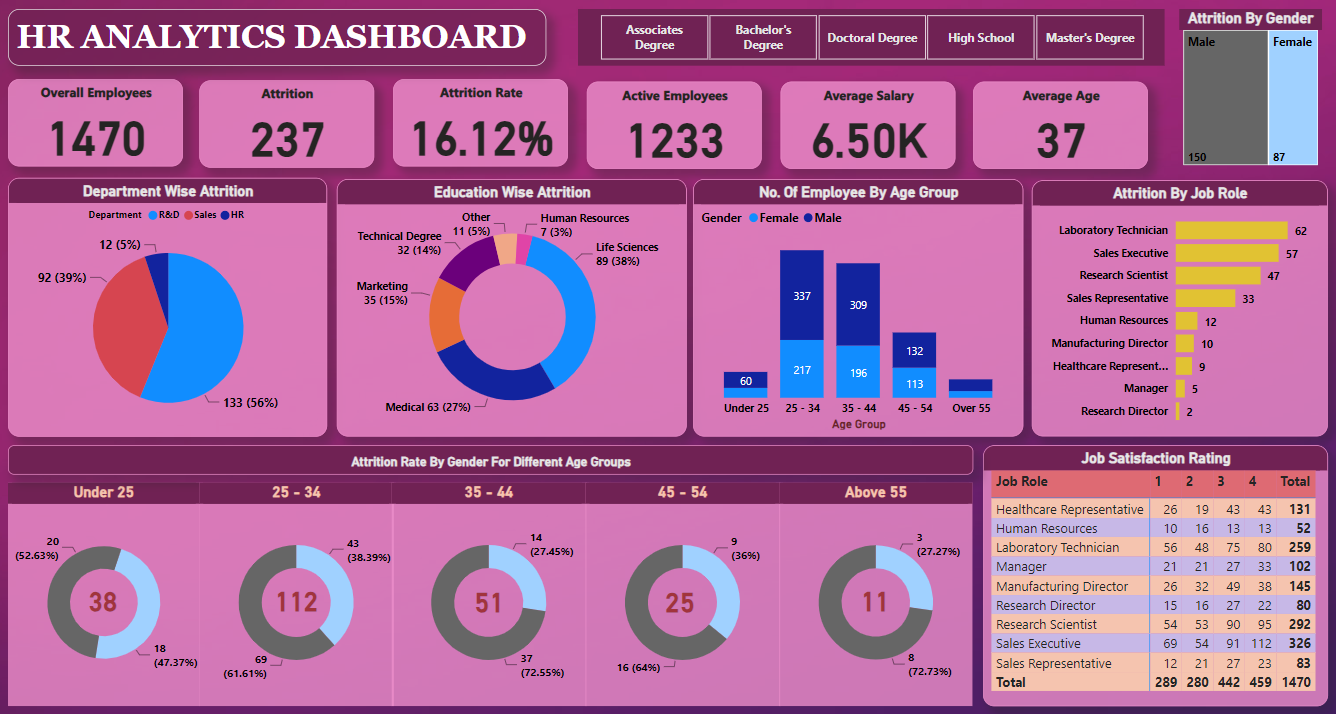

What the dashboard file says about the page in this screenshot:
{"tool":"powerbi","page":{"name":"Page 1","canvas":[1530,820],"ordinal":0},"visuals":[{"type":"card","title":"Overall Employees","fields":{"Values":["Sum(HR data.Employee Count)"]},"box":[11.3,91.5,200,100],"z":0},{"type":"card","title":"Attrition","fields":{"Values":["Sum(HR data.Attrition Count)"]},"box":[229.6,93,200,100],"z":1000},{"type":"card","title":"Attrition Rate ","fields":{"Values":["HR data.Attrition Rate %"]},"box":[452.1,91.5,200,100],"z":2000},{"type":"card","title":"Active Employees","fields":{"Values":["HR data.Active Employees"]},"box":[673.2,94.4,200,100],"z":3000},{"type":"card","title":"Average Salary","fields":{"Values":["Avg(HR data.Monthly Income)"]},"box":[894.4,94.4,200,100],"z":4000},{"type":"card","title":"Average Age","fields":{"Values":["Avg(HR data.Age)"]},"box":[1114.1,94.4,200,100],"z":5000},{"type":"pieChart","title":"Department Wise Attrition","fields":{"Category":["HR data.Department"],"Y":["Sum(HR data.Attrition Count)"]},"box":[11.3,204.2,364.8,295.8],"z":6000},{"type":"donutChart","title":"Education Wise Attrition","fields":{"Y":["Sum(HR data.Attrition Count)"],"Category":["HR data.Education Field"]},"box":[387.3,205.6,400,294.4],"z":7000},{"type":"columnChart","title":"No. Of Employee By Age Group","fields":{"Category":["HR data.CF_age band"],"Y":["Sum(HR data.Employee Count)"],"Series":["HR data.Gender"]},"box":[794.4,205.6,377.5,294.4],"z":7001},{"type":"textbox","box":[11.3,11.3,615.5,64.8],"z":7002},{"type":"barChart","title":"Attrition By Job Role","fields":{"Category":["HR data.Job Role"],"Y":["Sum(HR data.Attrition Count)"]},"box":[1181.7,207,338,293],"z":7003},{"type":"pivotTable","title":"Job Satisfaction Rating","fields":{"Rows":["HR data.Job Role"],"Columns":["HR data.Job Satisfaction"],"Values":["CountNonNull(HR data.Job Satisfaction)"]},"box":[1125.4,509.9,394.4,298.6],"z":7004},{"type":"donutChart","title":"Under 25","fields":{"Category":["HR data.Gender"],"Series":["HR data.CF_age band"],"Y":["Sum(HR data.Attrition Count)"]},"box":[11.3,553.5,219,254.9],"z":7005},{"type":"textbox","box":[11.3,509.9,1102.8,33.8],"z":7006},{"type":"donutChart","title":"25 - 34","fields":{"Category":["HR data.Gender"],"Series":["HR data.CF_age band"],"Y":["Sum(HR data.Attrition Count)"]},"box":[229.6,553.5,222,254.9],"z":7007},{"type":"donutChart","title":"35 - 44","fields":{"Category":["HR data.Gender"],"Series":["HR data.CF_age band"],"Y":["Sum(HR data.Attrition Count)"]},"box":[450.7,553.5,222,254.9],"z":7008},{"type":"donutChart","title":"45 - 54","fields":{"Category":["HR data.Gender"],"Series":["HR data.CF_age band"],"Y":["Sum(HR data.Attrition Count)"]},"box":[671.8,553.5,222,254.9],"z":7009},{"type":"donutChart","title":"Above 55","fields":{"Category":["HR data.Gender"],"Series":["HR data.CF_age band"],"Y":["Sum(HR data.Attrition Count)"]},"box":[893,553.5,221.1,254.9],"z":7010},{"type":"card","fields":{"Values":["Sum(HR data.Attrition Count)"]},"box":[90.1,657.7,60.6,60.6],"z":7011},{"type":"card","fields":{"Values":["Sum(HR data.Attrition Count)"]},"box":[305.6,652.1,70.4,70.4],"z":7012},{"type":"card","fields":{"Values":["Sum(HR data.Attrition Count)"]},"box":[525.4,653.5,70.4,70.4],"z":7013},{"type":"card","fields":{"Values":["Sum(HR data.Attrition Count)"]},"box":[743.7,653.5,70.4,70.4],"z":7014},{"type":"card","fields":{"Values":["Sum(HR data.Attrition Count)"]},"box":[967.6,652.1,70.4,70.4],"z":7015},{"type":"slicer","fields":{"Values":["HR data.Education"]},"box":[663.4,11.3,670.4,64.8],"z":7016},{"type":"treemap","title":"Attrition By Gender","fields":{"Group":["HR data.Gender"],"Values":["Sum(HR data.Attrition Count)"]},"box":[1350.7,11.3,163.4,183.1],"z":7017}]}

Visuals, with their boxes in screenshot pixels (x1, y1, x2, y2), scaled from the page's 1530x820 canvas onto the 1336x714 screenshot:
"Overall Employees" card: l=10, t=80, r=185, b=167
"Attrition" card: l=200, t=81, r=375, b=168
"Attrition Rate " card: l=395, t=80, r=569, b=167
"Active Employees" card: l=588, t=82, r=762, b=169
"Average Salary" card: l=781, t=82, r=956, b=169
"Average Age" card: l=973, t=82, r=1147, b=169
"Department Wise Attrition" pieChart: l=10, t=178, r=328, b=435
"Education Wise Attrition" donutChart: l=338, t=179, r=687, b=435
"No. Of Employee By Age Group" columnChart: l=694, t=179, r=1023, b=435
textbox: l=10, t=10, r=547, b=66
"Attrition By Job Role" barChart: l=1032, t=180, r=1327, b=435
"Job Satisfaction Rating" pivotTable: l=983, t=444, r=1327, b=704
"Under 25" donutChart: l=10, t=482, r=201, b=704
textbox: l=10, t=444, r=973, b=473
"25 - 34" donutChart: l=200, t=482, r=394, b=704
"35 - 44" donutChart: l=394, t=482, r=587, b=704
"45 - 54" donutChart: l=587, t=482, r=780, b=704
"Above 55" donutChart: l=780, t=482, r=973, b=704
card - Sum(HR data.Attrition Count): l=79, t=573, r=132, b=625
card - Sum(HR data.Attrition Count): l=267, t=568, r=328, b=629
card - Sum(HR data.Attrition Count): l=459, t=569, r=520, b=630
card - Sum(HR data.Attrition Count): l=649, t=569, r=711, b=630
card - Sum(HR data.Attrition Count): l=845, t=568, r=906, b=629
slicer - HR data.Education: l=579, t=10, r=1165, b=66
"Attrition By Gender" treemap: l=1179, t=10, r=1322, b=169
